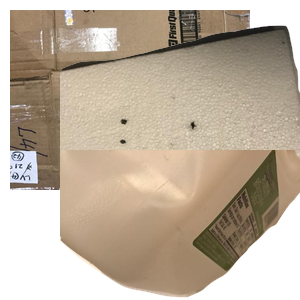cardboard: (10, 10, 250, 190)
glass: (60, 128, 300, 300)
plastic: (60, 150, 300, 300)
trash: (60, 23, 300, 203)
